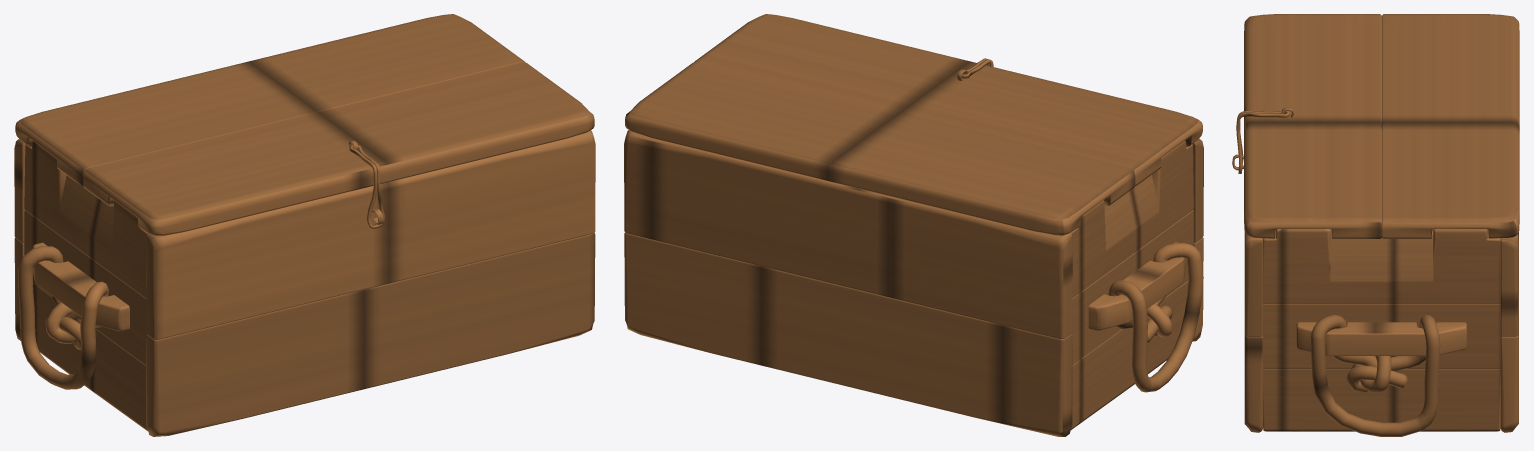
Rendered from crate-nc-v1.fbx.
3 renders of one model, left to right at view 1: azimuth 30°, elevation 25°; view 2: azimuth 150°, elevation 25°; view 3: azimuth 270°, elevation 25°, orthographic. The views are drawn at different scales.
Parts seen in each view (by area): view 1: wooden_crate_01, wooden_crate_01_lid, wooden_crate_01_latch; view 2: wooden_crate_01, wooden_crate_01_lid; view 3: wooden_crate_01_lid, wooden_crate_01, wooden_crate_01_latch.
Boxes of the visible parts, left/top/right/bottom form: wooden_crate_01: left=14, top=130, right=595, bottom=436; wooden_crate_01_lid: left=15, top=14, right=594, bottom=236; wooden_crate_01_latch: left=349, top=145, right=384, bottom=228; wooden_crate_01: left=624, top=130, right=1203, bottom=436; wooden_crate_01_lid: left=625, top=14, right=1202, bottom=235; wooden_crate_01_lid: left=1244, top=14, right=1519, bottom=238; wooden_crate_01: left=1232, top=154, right=1518, bottom=436; wooden_crate_01_latch: left=1236, top=111, right=1289, bottom=173.
Bounding box in the file's own units: 82.53 × 34.96 × 40.9.
1 material, 1 textured.
